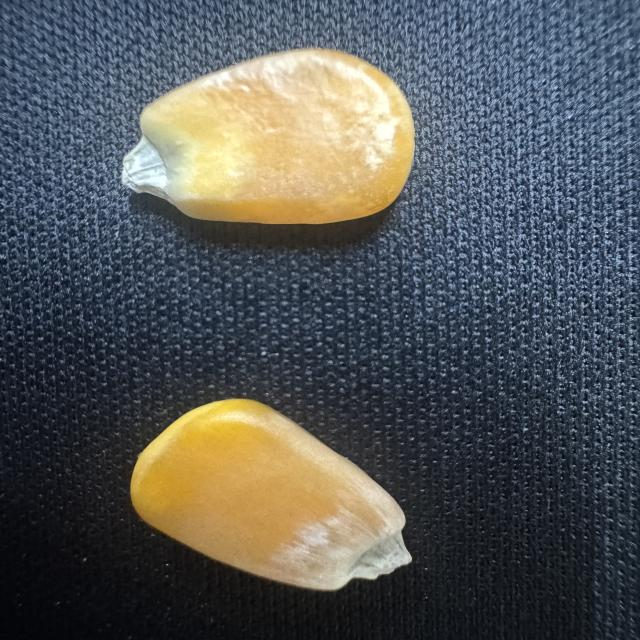Good-Seed: (124, 394, 417, 594), (117, 42, 421, 228)
